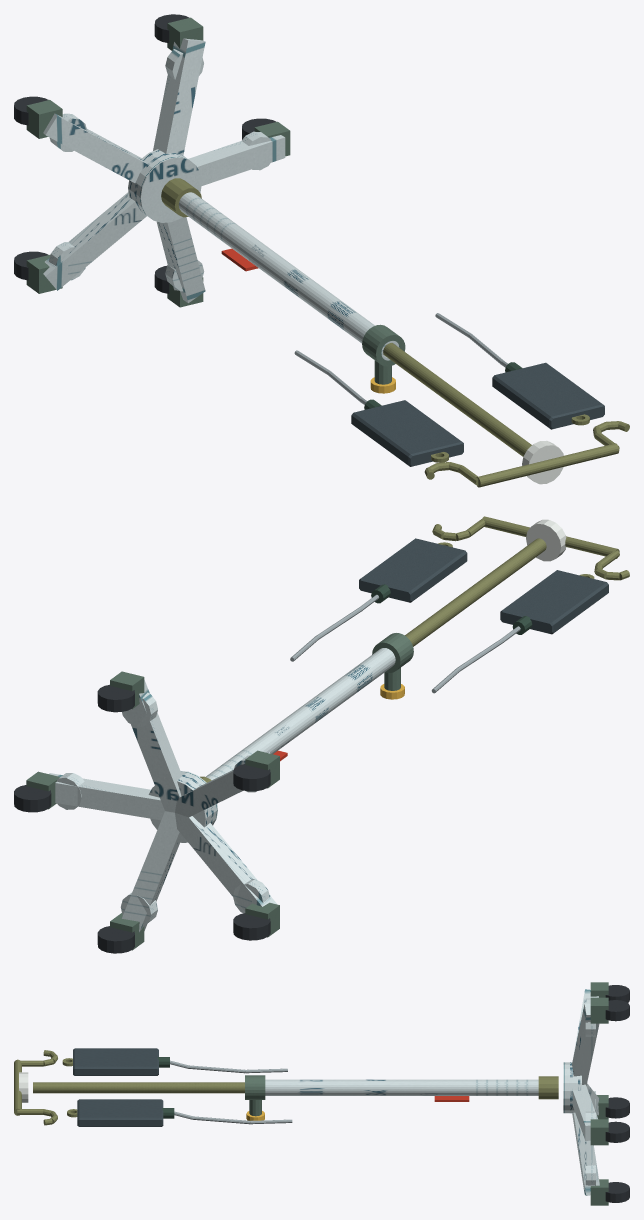
Rendered from PZ_MED_02_Wheeled_IV_Stand.glb.
3 views of the same model, one above another, from view 1: azimuth 30°, elevation 25°; view 2: azimuth 150°, elevation 25°; view 3: azimuth 270°, elevation 25° (orthographic). The views are drawn at different scales.
Parts seen in each view (by area): view 1: IV_Base_FiveSpokeRollingStar, IV_OuterPole_PowdercoatedTube, IV_Bag_B_MilkWhiteFlexiblePouch, IV_Bag_A_MilkWhiteFlexiblePouch, IV_TelescopicPole_InnerTube, IV_TelescopicPole_Crossbar, IV_HeightAdjustment_LockCollar, IV_TelescopicPole_DualJHooks, IV_TelescopicPole_HookCrown, IV_Caster_03_Fork, IV_Caster_02_Fork, IV_Pole_LowerFerrule (+1 smaller); view 2: IV_Base_FiveSpokeRollingStar, IV_OuterPole_PowdercoatedTube, IV_Bag_A_MilkWhiteFlexiblePouch, IV_Bag_B_MilkWhiteFlexiblePouch, IV_TelescopicPole_InnerTube, IV_HeightAdjustment_LockCollar, IV_TelescopicPole_HookCrown, IV_TelescopicPole_Crossbar, IV_TelescopicPole_DualJHooks, IV_Caster_01_Wheel, IV_Caster_04_Wheel, IV_Caster_03_Wheel (+5 smaller); view 3: IV_OuterPole_PowdercoatedTube, IV_Base_FiveSpokeRollingStar, IV_TelescopicPole_InnerTube, IV_Bag_B_MilkWhiteFlexiblePouch, IV_Bag_A_MilkWhiteFlexiblePouch, IV_HeightAdjustment_LockCollar, IV_TelescopicPole_DualJHooks, IV_Pole_LowerFerrule, IV_Bag_B_DripTube, IV_Bag_A_DripTube, IV_Caster_01_Fork, IV_Caster_02_Fork (+7 smaller).
Part boxes in pixels (left/top/right/bottom): IV_Base_FiveSpokeRollingStar: left=43, top=38, right=285, bottom=303; IV_OuterPole_PowdercoatedTube: left=178, top=192, right=399, bottom=360; IV_Bag_B_MilkWhiteFlexiblePouch: left=492, top=362, right=604, bottom=429; IV_Bag_A_MilkWhiteFlexiblePouch: left=351, top=400, right=463, bottom=466; IV_TelescopicPole_InnerTube: left=383, top=343, right=531, bottom=456; IV_TelescopicPole_Crossbar: left=476, top=443, right=619, bottom=487; IV_HeightAdjustment_LockCollar: left=362, top=324, right=405, bottom=384; IV_TelescopicPole_DualJHooks: left=424, top=421, right=629, bottom=485; IV_TelescopicPole_HookCrown: left=522, top=440, right=563, bottom=484; IV_Caster_03_Fork: left=26, top=100, right=62, bottom=138; IV_Caster_02_Fork: left=167, top=17, right=203, bottom=50; IV_Pole_LowerFerrule: left=161, top=178, right=201, bottom=217; IV_Base_FiveSpokeRollingStar: left=49, top=680, right=277, bottom=932; IV_OuterPole_PowdercoatedTube: left=206, top=648, right=395, bottom=780; IV_Bag_A_MilkWhiteFlexiblePouch: left=500, top=570, right=608, bottom=634; IV_Bag_B_MilkWhiteFlexiblePouch: left=359, top=538, right=467, bottom=602; IV_TelescopicPole_InnerTube: left=405, top=538, right=546, bottom=646; IV_HeightAdjustment_LockCollar: left=372, top=633, right=413, bottom=690; IV_TelescopicPole_HookCrown: left=526, top=519, right=566, bottom=561; IV_TelescopicPole_Crossbar: left=482, top=516, right=619, bottom=558; IV_TelescopicPole_DualJHooks: left=432, top=519, right=629, bottom=580; IV_Caster_01_Wheel: left=14, top=785, right=51, bottom=812; IV_Caster_04_Wheel: left=233, top=913, right=270, bottom=940; IV_Caster_03_Wheel: left=233, top=764, right=270, bottom=791; IV_OuterPole_PowdercoatedTube: left=265, top=1079, right=538, bottom=1095; IV_Base_FiveSpokeRollingStar: left=563, top=989, right=599, bottom=1195; IV_TelescopicPole_InnerTube: left=33, top=1082, right=244, bottom=1093; IV_Bag_B_MilkWhiteFlexiblePouch: left=77, top=1099, right=163, bottom=1126; IV_Bag_A_MilkWhiteFlexiblePouch: left=73, top=1048, right=158, bottom=1075; IV_HeightAdjustment_LockCollar: left=245, top=1075, right=265, bottom=1116; IV_TelescopicPole_DualJHooks: left=17, top=1050, right=57, bottom=1125; IV_Pole_LowerFerrule: left=538, top=1076, right=558, bottom=1099; IV_Bag_B_DripTube: left=174, top=1111, right=292, bottom=1124; IV_Bag_A_DripTube: left=170, top=1060, right=287, bottom=1073; IV_Caster_01_Fork: left=590, top=1119, right=608, bottom=1145; IV_Caster_02_Fork: left=590, top=997, right=608, bottom=1023.
Bounding box in the file's own units: 0.7272 × 0.7307 × 2.04.
Materials: 1 (1 with a texture image).
